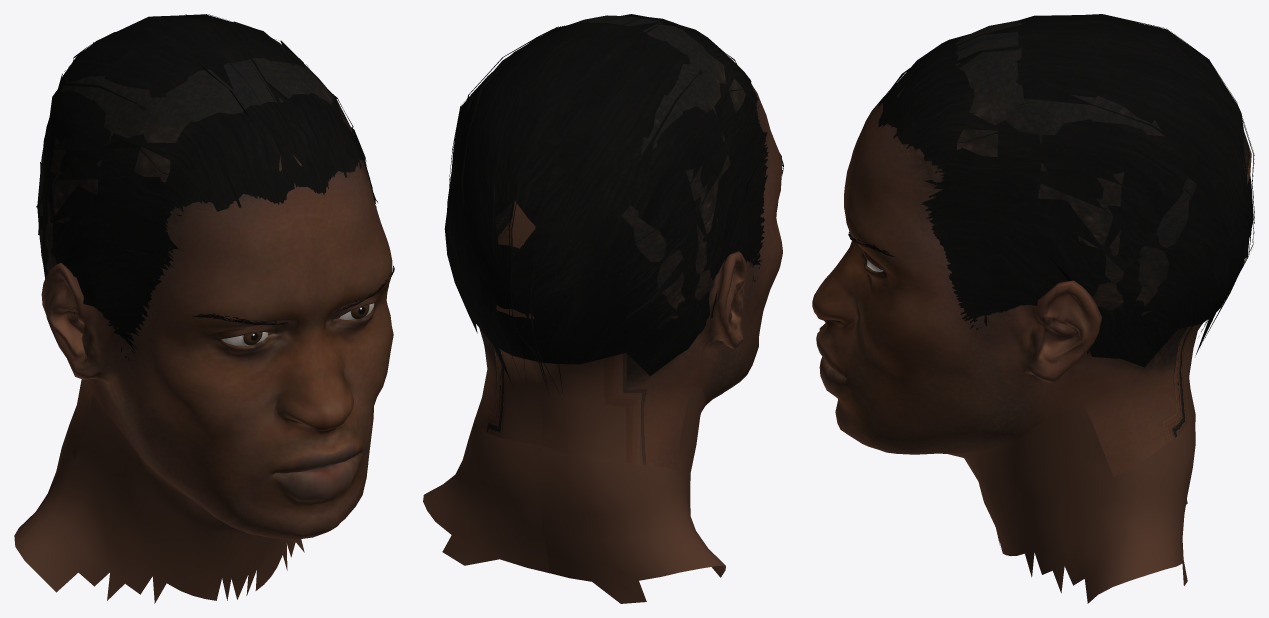
Rendered from hero_golf_head_tiiger.glb.
3 renders of one model, left to right at view 1: azimuth 30°, elevation 25°; view 2: azimuth 150°, elevation 25°; view 3: azimuth 270°, elevation 25°, orthographic. The views are drawn at different scales.
Visible parts, largest first — view 1: head_skull, mpfb_hair, mpfb_eyes, mpfb_brows; view 2: mpfb_hair, head_skull; view 3: head_skull, mpfb_hair.
Part boxes in pixels (<box>): head_skull: <box>14,37,393,603</box>; mpfb_hair: <box>36,14,377,362</box>; mpfb_eyes: <box>221,303,374,345</box>; mpfb_brows: <box>192,265,394,324</box>; mpfb_hair: <box>444,14,768,398</box>; head_skull: <box>423,15,782,603</box>; head_skull: <box>812,20,1251,603</box>; mpfb_hair: <box>878,14,1254,367</box>.
Size of the model in its own units: 0.2419 by 0.4013 by 0.3106.
4 materials, 4 textured.
